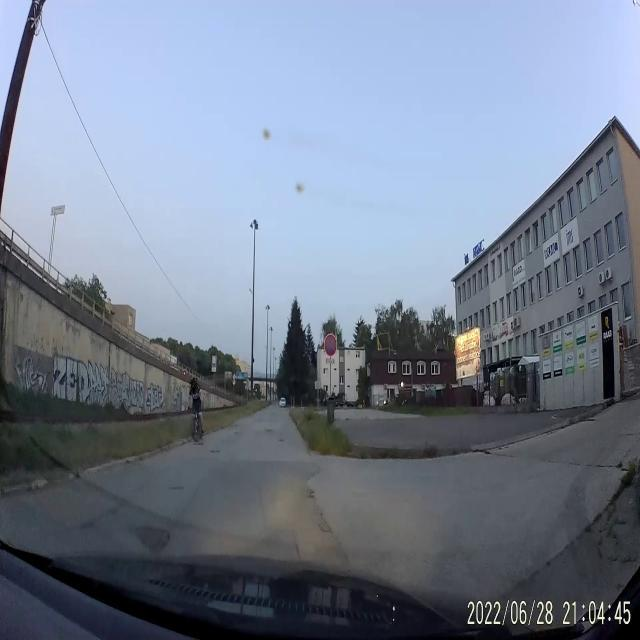Pothole: (136, 520, 174, 552), (167, 482, 186, 495), (209, 445, 222, 455), (264, 424, 274, 436), (279, 437, 285, 445)
